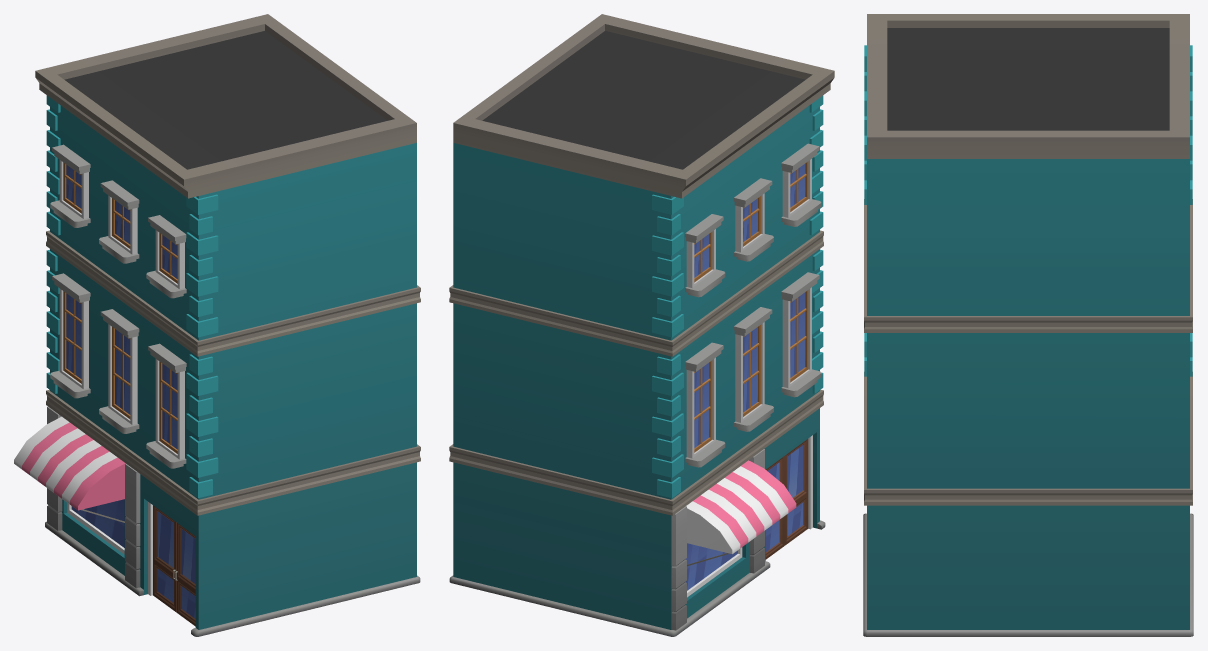
File: Building_8_1_J.fbx
3 renders of one model, left to right at view 1: azimuth 30°, elevation 25°; view 2: azimuth 150°, elevation 25°; view 3: azimuth 270°, elevation 25°, orthographic. The views are drawn at different scales.
Parts seen in each view (by area): view 1: Building 8_1_J; view 2: Building 8_1_J; view 3: Building 8_1_J.
Boxes of the visible parts, box(x1,y1,x2,y2) form: Building 8_1_J: box(14, 14, 420, 636); Building 8_1_J: box(449, 14, 834, 636); Building 8_1_J: box(863, 14, 1193, 636).
Size of the model in its own units: 681 by 1108 by 667.
